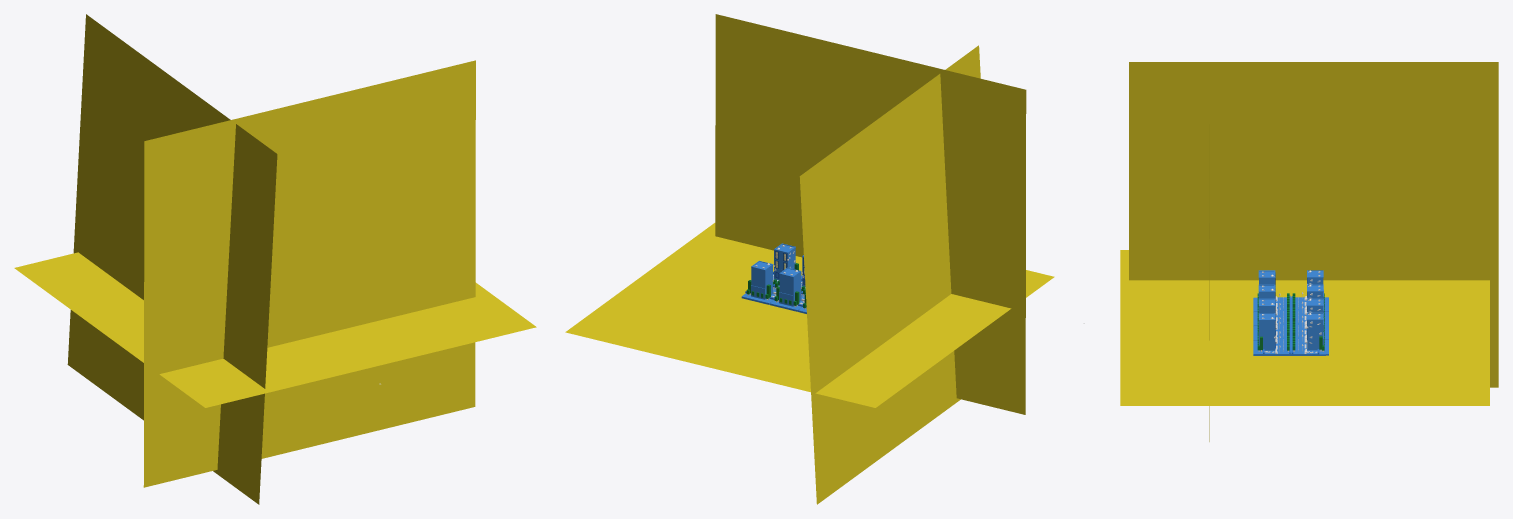
File: housemodel1.glb
3 renders of one model, left to right at view 1: azimuth 30°, elevation 25°; view 2: azimuth 150°, elevation 25°; view 3: azimuth 270°, elevation 25°, orthographic. The views are drawn at different scales.
Parts seen in each view (by area): view 1: Plane.035, Plane.038, Plane; view 2: Plane.035, Plane.038, Plane; view 3: Plane.038, Plane.
Boxes of the visible parts, x1,y1,x2,y2 form: Plane.035: [143, 60, 475, 487]; Plane.038: [67, 14, 277, 504]; Plane: [14, 252, 536, 407]; Plane.035: [715, 14, 1026, 414]; Plane.038: [799, 45, 980, 504]; Plane: [565, 223, 1054, 407]; Plane.038: [1129, 62, 1498, 387]; Plane: [1120, 250, 1489, 405].
Size of the model in its own units: 469 by 454 by 504.
